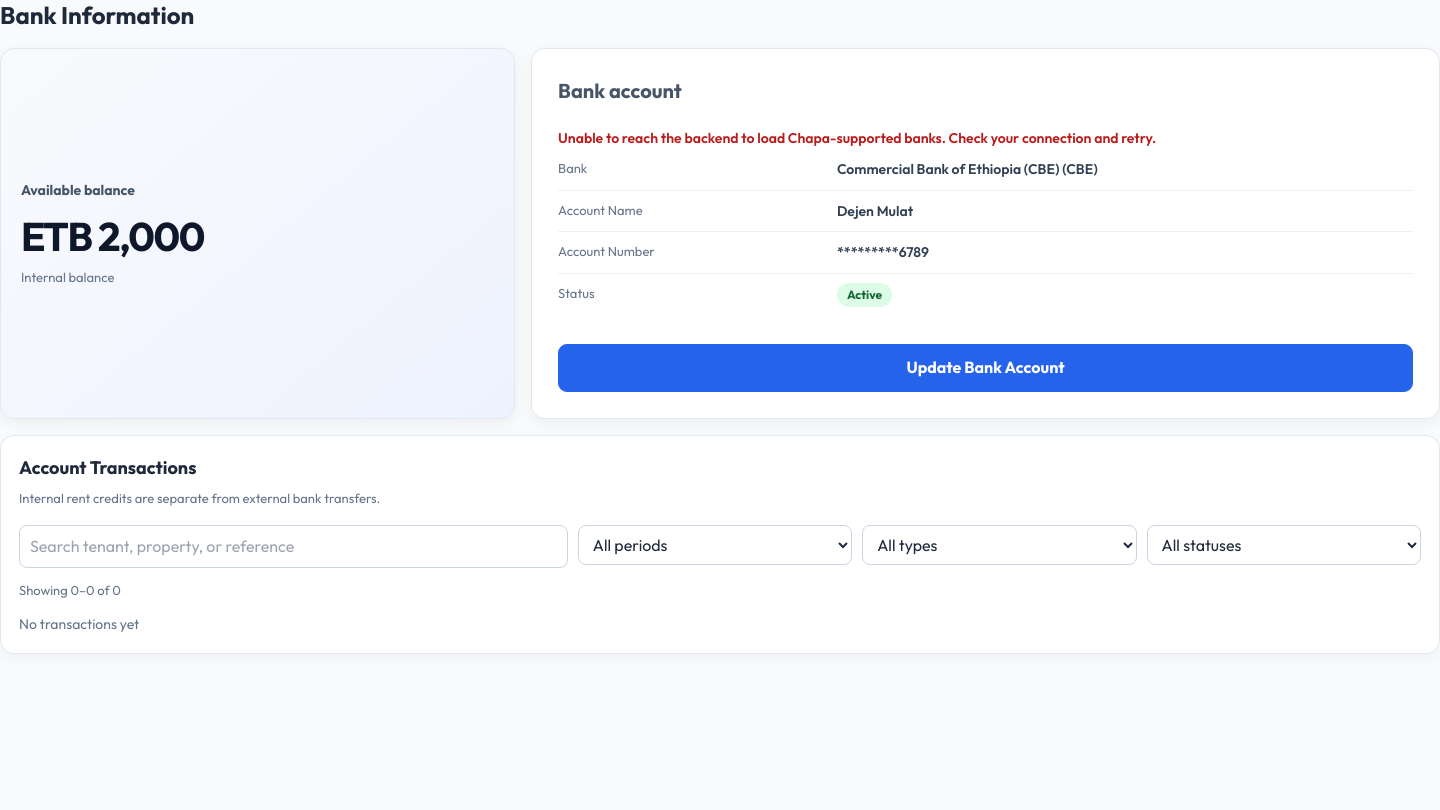
shows a connection-specific bank API error when the backend is unreachable
Click the button "Update Bank Account". click: (986, 368)
box: 558,344 -> 1413,392
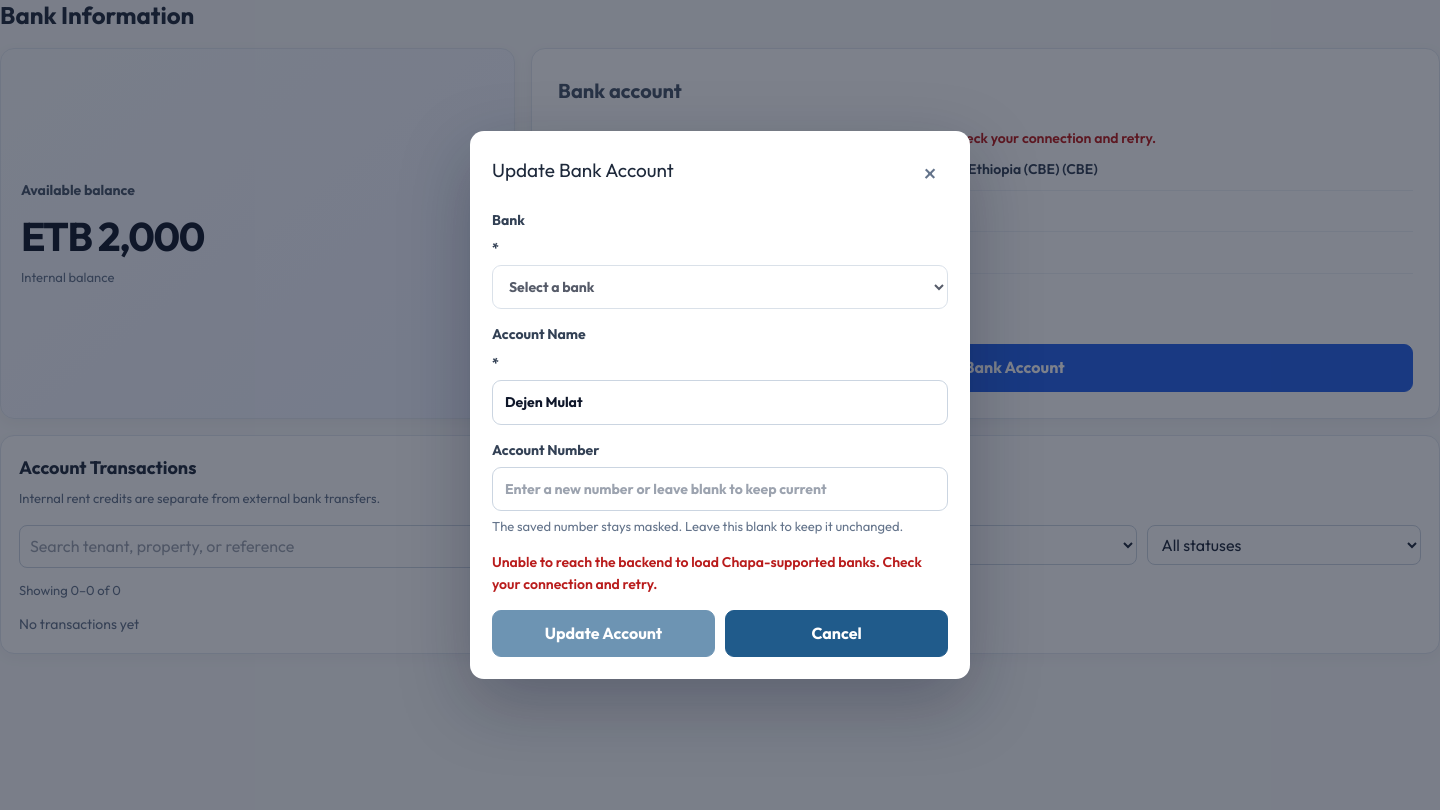
Expected: the message shows "Unable to reach the backend to load Chapa-supported banks. Check your connection and retry.", 492,553 -> 922,593
Expected: the button "Update Account" is disabled, 492,610 -> 715,657
